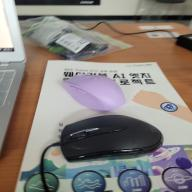mouse: (57, 114, 165, 164), (60, 74, 127, 113)
